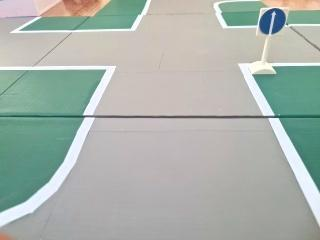straight: (257, 6, 289, 36)
